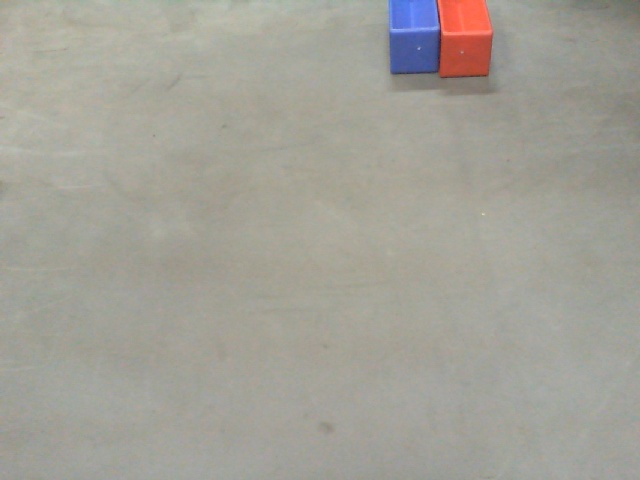BlueSample: (386, 1, 440, 79)
RedSample: (434, 1, 496, 83)
